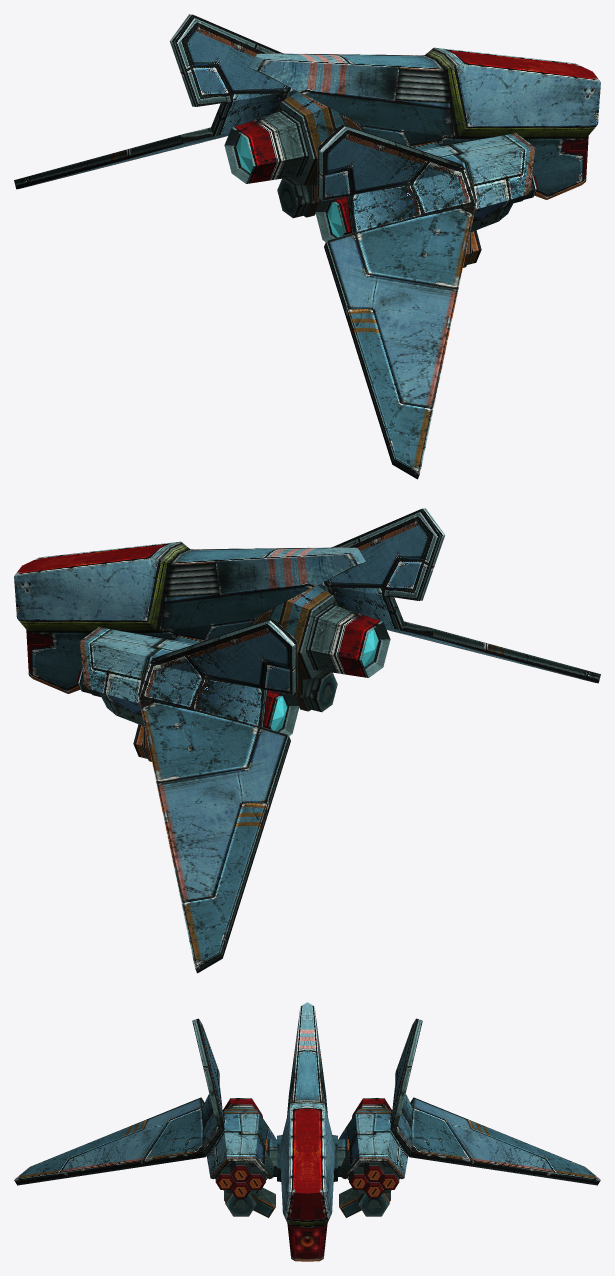
File: drone_L.FBX
The picture shows the model from 3 angles, top to bottom: view 1: azimuth 30°, elevation 25°; view 2: azimuth 150°, elevation 25°; view 3: azimuth 270°, elevation 25°; orthographic projection. The views are drawn at different scales.
Parts seen in each view (by area): view 1: drone_L; view 2: drone_L; view 3: drone_L.
Part boxes in pixels (bbox=[...]): drone_L: bbox=[14, 14, 600, 479]; drone_L: bbox=[14, 508, 600, 973]; drone_L: bbox=[14, 1002, 600, 1261].
Size of the model in its own units: 173 by 309 by 114.
Materials: 1 (1 with a texture image).
